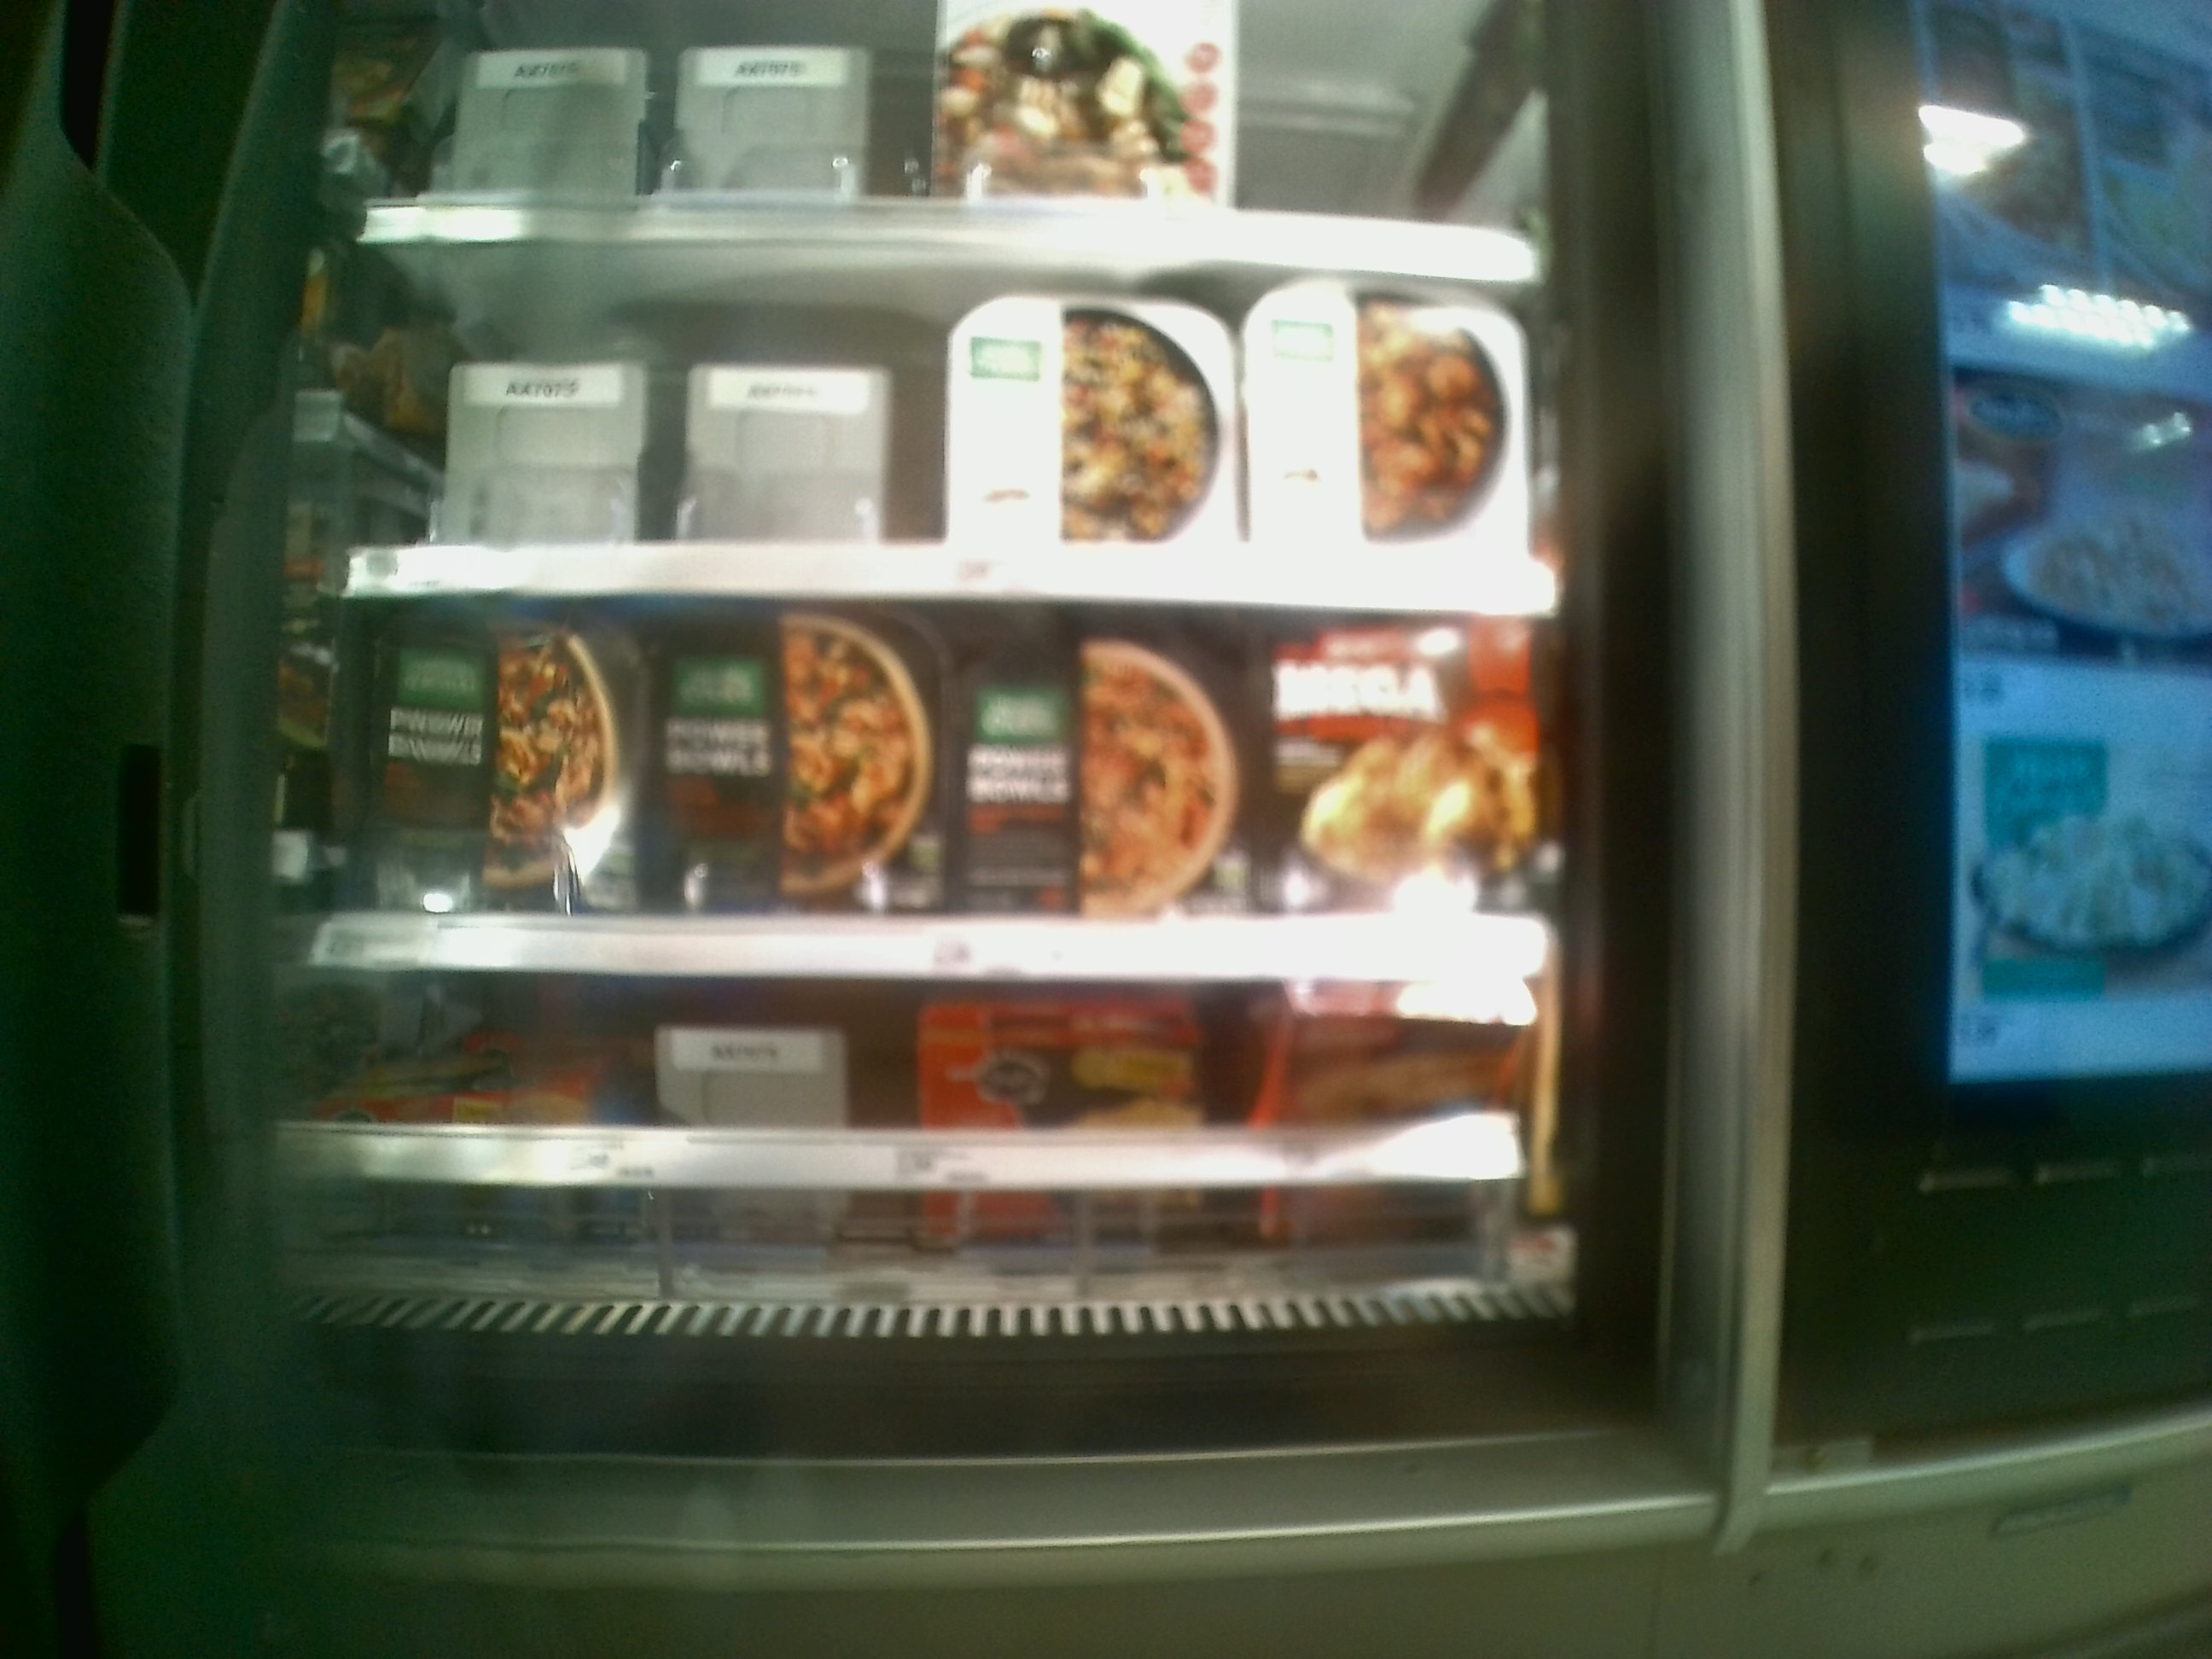shelf: (343, 586, 1536, 983), (341, 230, 1543, 617), (286, 967, 1555, 1328)
